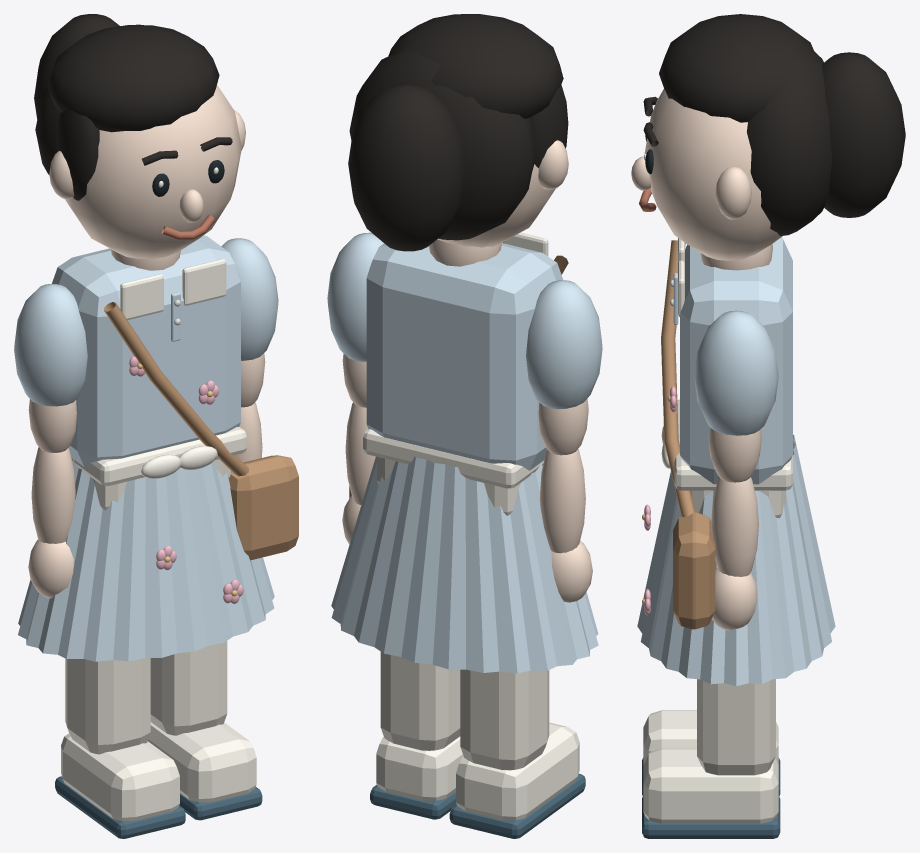
File: mom.glb
3 renders of one model, left to right at view 1: azimuth 30°, elevation 25°; view 2: azimuth 150°, elevation 25°; view 3: azimuth 270°, elevation 25°, orthographic. The views are drawn at different scales.
Visible parts, largest first — view 1: FamilyRoot_Geometry, Leg_L_Geometry, Leg_R_Geometry, Arm_L_Geometry, Elbow_L_Geometry, Arm_R_Geometry, Elbow_R_Geometry; view 2: FamilyRoot_Geometry, Leg_L_Geometry, Leg_R_Geometry, Arm_L_Geometry, Elbow_L_Geometry, Arm_R_Geometry, Elbow_R_Geometry; view 3: FamilyRoot_Geometry, Leg_R_Geometry, Arm_R_Geometry, Elbow_R_Geometry, Leg_L_Geometry.
Boxes of the visible parts, x1=… form: FamilyRoot_Geometry: x1=18, y1=14, x2=298, y2=661; Leg_L_Geometry: x1=55, y1=658, x2=185, y2=838; Leg_R_Geometry: x1=148, y1=641, x2=262, y2=820; Arm_L_Geometry: x1=14, y1=284, x2=87, y2=452; Elbow_L_Geometry: x1=28, y1=447, x2=75, y2=598; Arm_R_Geometry: x1=221, y1=238, x2=278, y2=407; Elbow_R_Geometry: x1=236, y1=402, x2=262, y2=462; FamilyRoot_Geometry: x1=331, y1=14, x2=598, y2=673; Leg_L_Geometry: x1=449, y1=669, x2=585, y2=838; Leg_R_Geometry: x1=370, y1=652, x2=463, y2=819; Arm_L_Geometry: x1=526, y1=280, x2=602, y2=455; Elbow_L_Geometry: x1=540, y1=449, x2=592, y2=602; Arm_R_Geometry: x1=327, y1=232, x2=383, y2=407; Elbow_R_Geometry: x1=342, y1=402, x2=375, y2=544; FamilyRoot_Geometry: x1=631, y1=14, x2=905, y2=686; Leg_R_Geometry: x1=642, y1=679, x2=780, y2=838; Arm_R_Geometry: x1=694, y1=310, x2=778, y2=482; Elbow_R_Geometry: x1=711, y1=477, x2=758, y2=630; Leg_L_Geometry: x1=642, y1=710, x2=780, y2=796.
Bounding box in the file's own units: 1.07 × 3.02 × 0.973.
